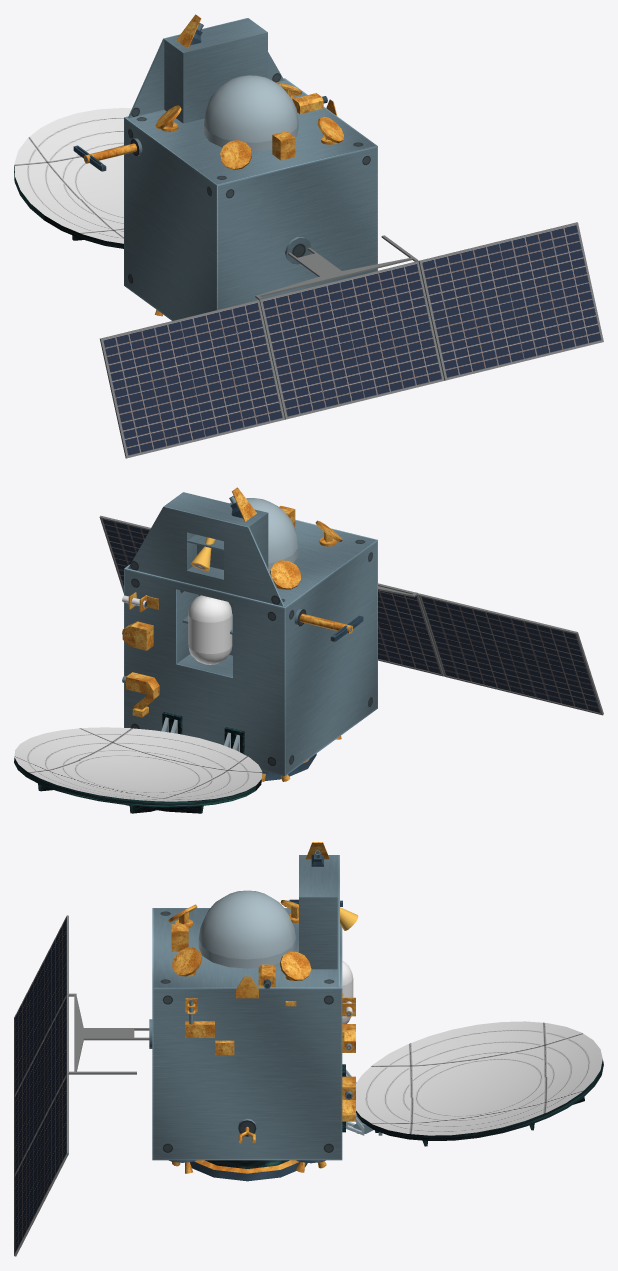
3 views of the same model, one above another, from view 1: azimuth 30°, elevation 25°; view 2: azimuth 150°, elevation 25°; view 3: azimuth 270°, elevation 25° (orthographic). The views are drawn at different scales.
Visible parts, largest first — view 1: object_0; view 2: object_0; view 3: object_0.
Part boxes in pixels (x1,y1,x2,y2): object_0: (14,14,603,458); object_0: (14,487,603,813); object_0: (14,842,603,1256).
Size of the model in its own units: 3.08 by 1.85 by 3.23.
1 material, 1 textured.
